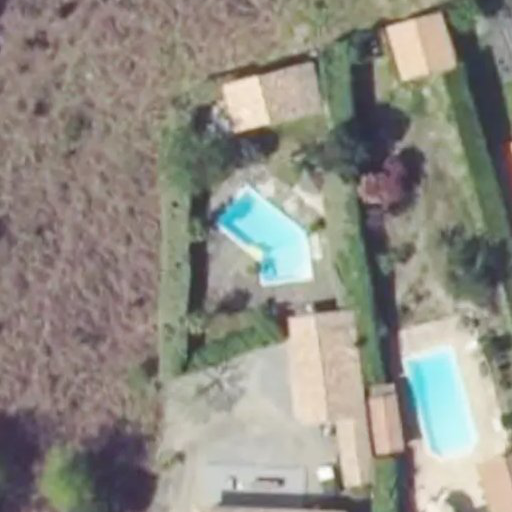pool: (198, 246, 321, 259)
